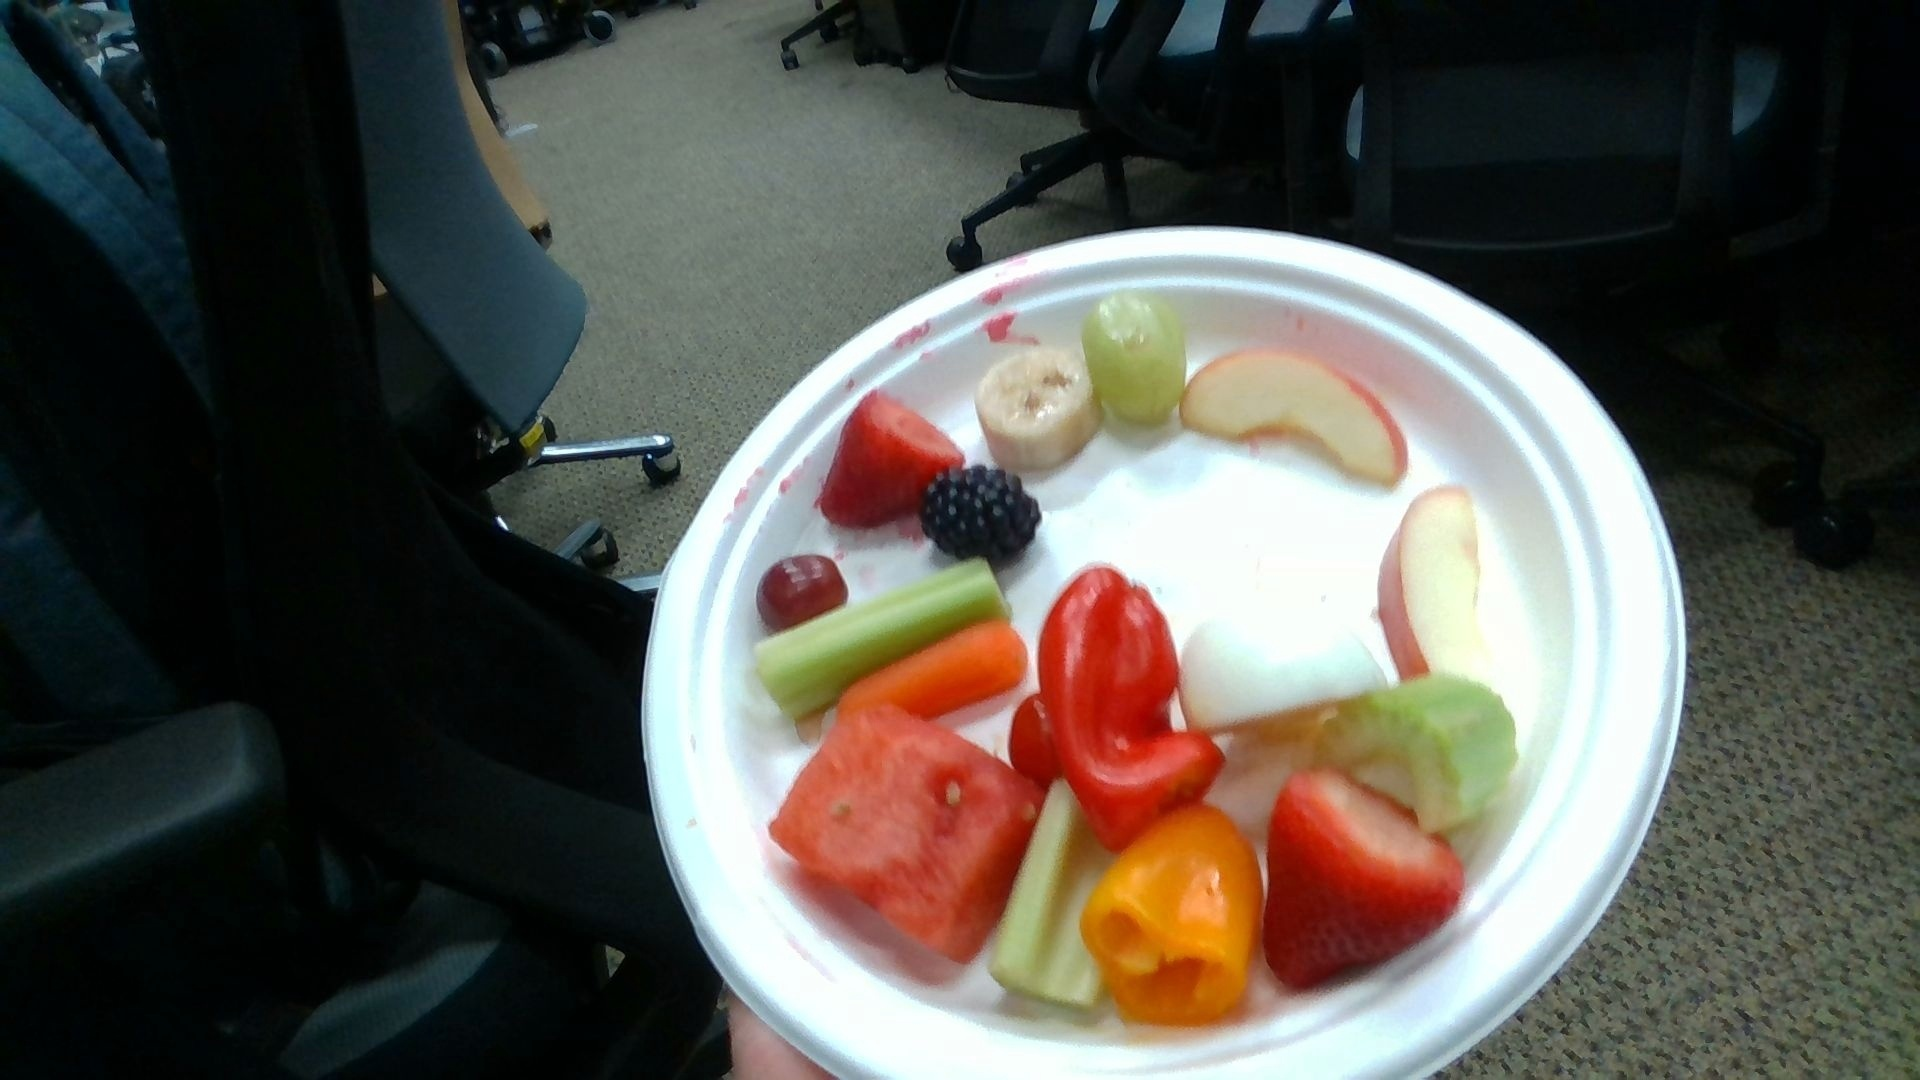apple: (1185, 348, 1408, 483), (1379, 488, 1480, 688)
banana: (978, 349, 1102, 465)
bell_pepper: (1039, 564, 1225, 851), (1084, 800, 1265, 1026)
blackberry: (922, 465, 1040, 560)
carrot: (837, 625, 1025, 720)
celery: (750, 563, 1005, 713), (1319, 673, 1516, 831), (989, 778, 1110, 1001)
egg: (1182, 597, 1385, 731)
grape_green: (1080, 286, 1187, 419)
grape_purple: (757, 555, 849, 628)
melon: (770, 691, 1044, 967)
strawberry: (1269, 766, 1458, 978), (822, 390, 959, 531)
